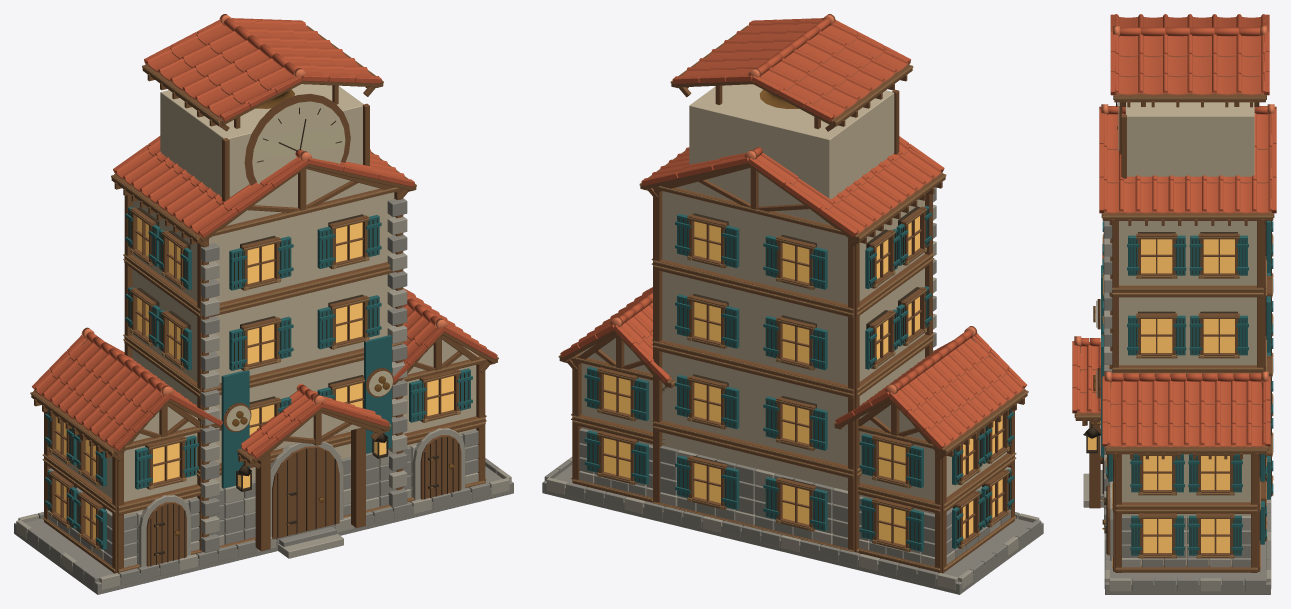
3 renders of one model, left to right at view 1: azimuth 30°, elevation 25°; view 2: azimuth 150°, elevation 25°; view 3: azimuth 270°, elevation 25°, orthographic.
Parts seen in each view (by area): view 1: alpine_finance_3_geometry, alpine_finance_3_geometry ceramic; view 2: alpine_finance_3_geometry, alpine_finance_3_geometry ceramic; view 3: alpine_finance_3_geometry, alpine_finance_3_geometry ceramic.
Boxes of the visible parts, x1,y1,x2,y2 form: alpine_finance_3_geometry: (14, 25, 513, 594); alpine_finance_3_geometry ceramic: (32, 14, 497, 458); alpine_finance_3_geometry: (542, 25, 1043, 594); alpine_finance_3_geometry ceramic: (560, 14, 1026, 449); alpine_finance_3_geometry: (1074, 93, 1274, 594); alpine_finance_3_geometry ceramic: (1072, 14, 1276, 447).
Bounding box in the file's own units: 2.38 × 2.57 × 1.02.
